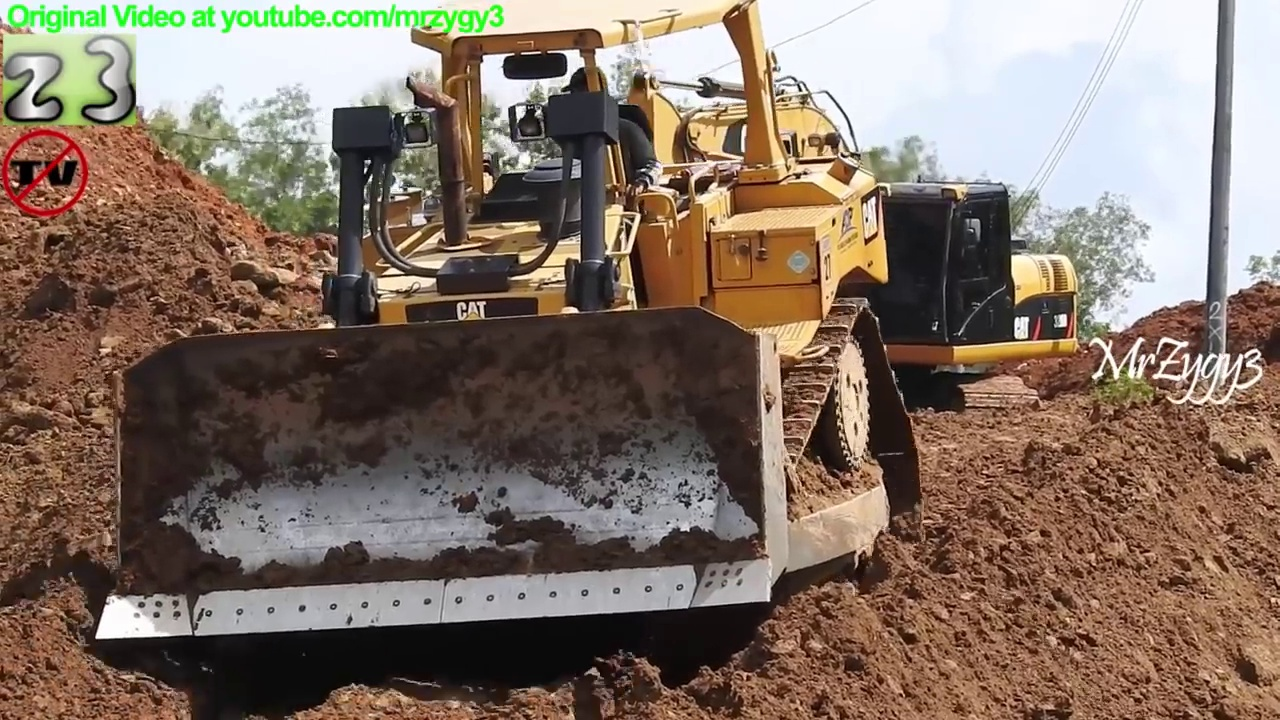bulldozer: (94, 8, 926, 628)
